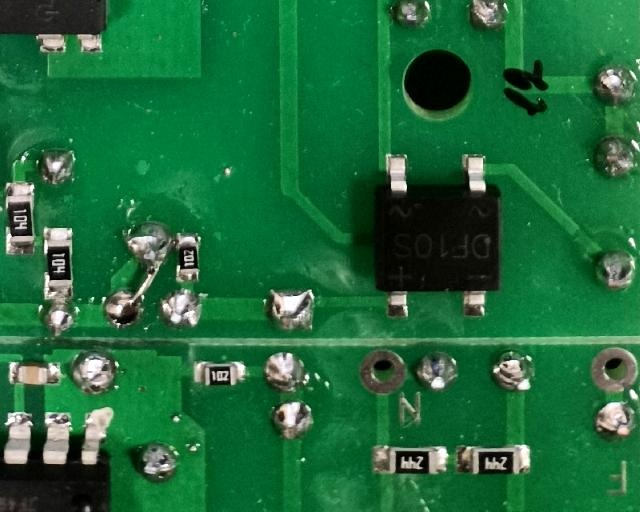chip-capacitor: (8, 359, 63, 386)
chip-resistor: (41, 225, 75, 301), (371, 444, 448, 476), (5, 180, 36, 257), (456, 444, 532, 474), (193, 360, 249, 387), (175, 231, 202, 283)
ic: (375, 151, 503, 316), (0, 406, 115, 512)
